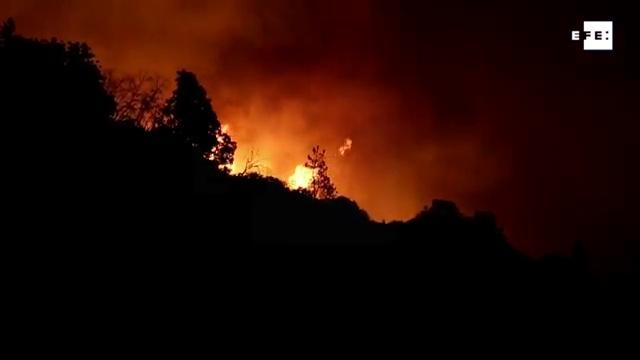fire: (209, 125, 270, 177), (284, 162, 318, 194)
smoke: (44, 1, 498, 224)
